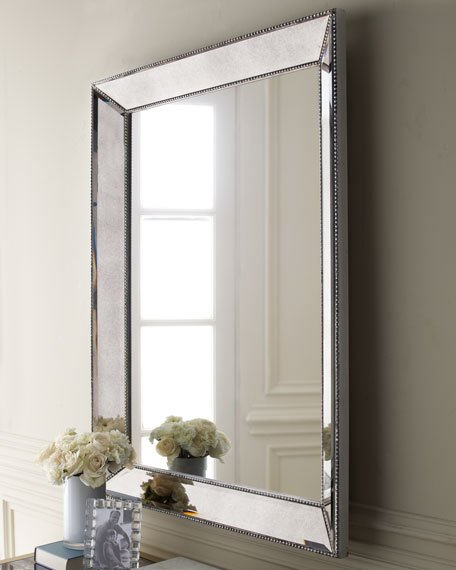Nonrec_Glass: (71, 5, 367, 564)
